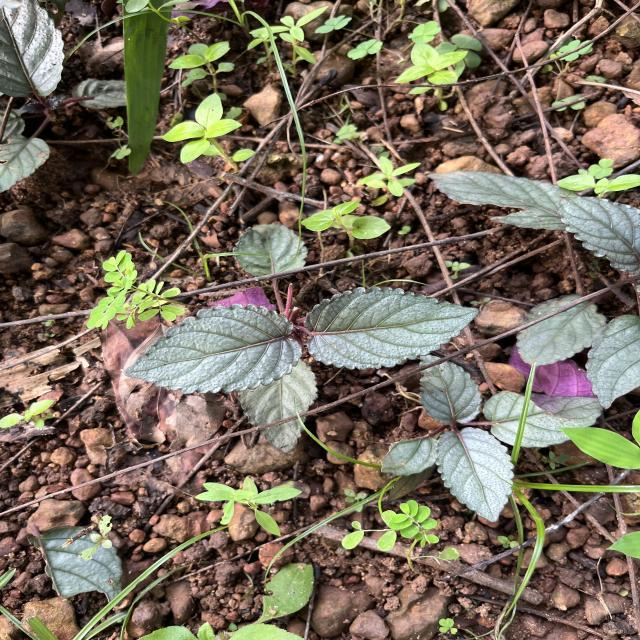Hemigraphis colorata: (120, 299, 304, 398), (304, 282, 482, 372), (432, 426, 516, 524), (553, 190, 640, 277), (482, 389, 606, 449), (582, 312, 640, 412), (416, 352, 484, 426)
